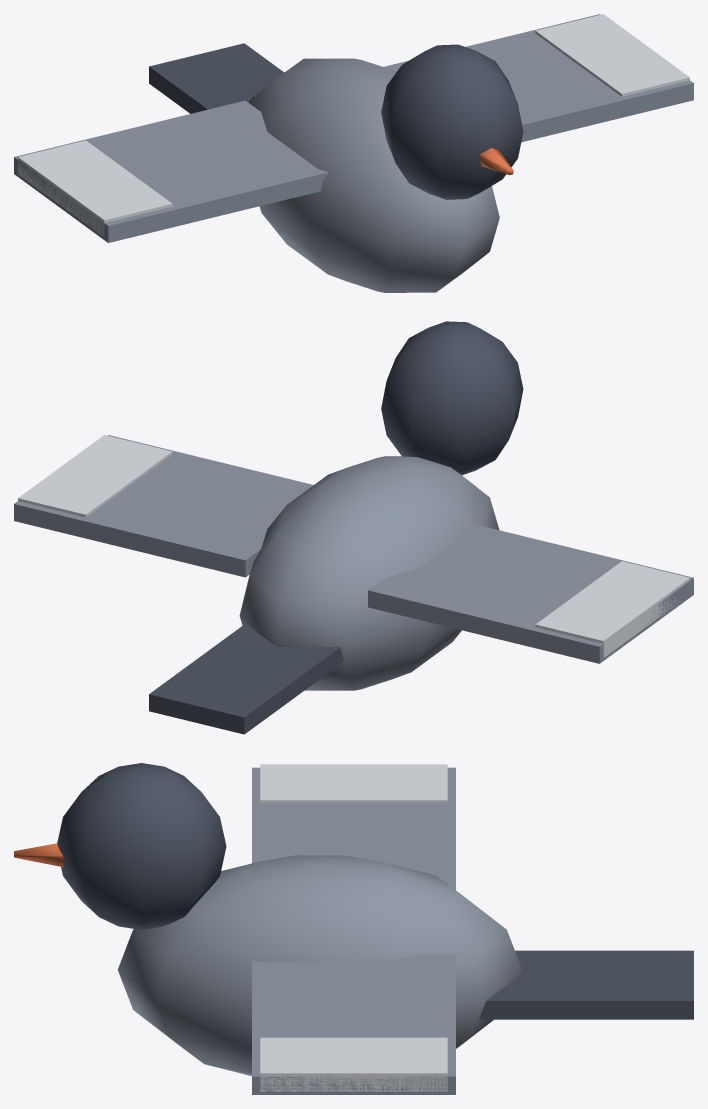
File: merpati.glb
3 views of the same model, one above another, from view 1: azimuth 30°, elevation 25°; view 2: azimuth 150°, elevation 25°; view 3: azimuth 270°, elevation 25° (orthographic). The views are drawn at different scales.
Visible parts, largest first — view 1: merpati; view 2: merpati; view 3: merpati.
Part boxes in pixels (x1,y1,x2,y2): merpati: (14,14,693,292); merpati: (14,321,693,734); merpati: (14,763,693,1094).
Bounding box in the file's own units: 0.43 × 0.198 × 0.4.
